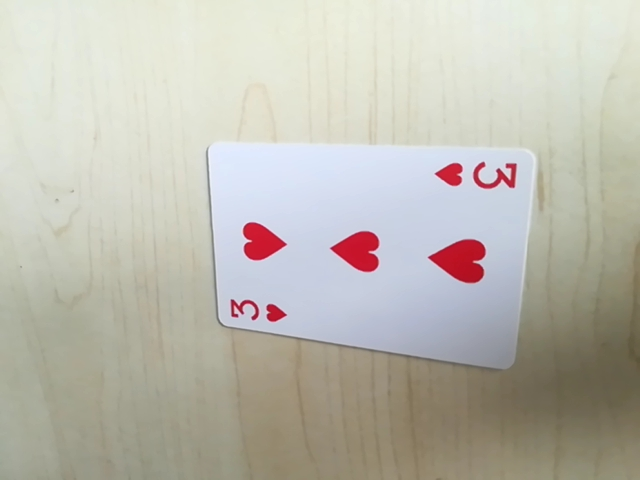hx 3: (432, 154, 526, 197), (223, 294, 291, 328)
